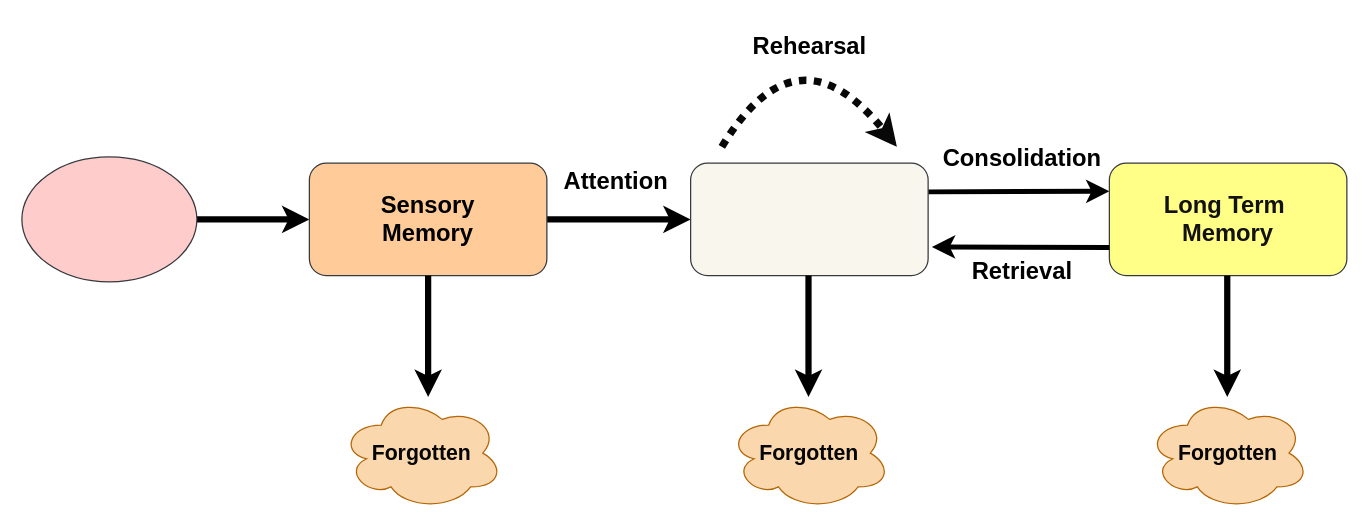
This 1369x531 diagram has some shape labels left out. Here are the shapes that lost their labels. From the top down, the centre of each, then its label:
point (109, 219): Environment Input:
point (808, 219): Short Term Memory
